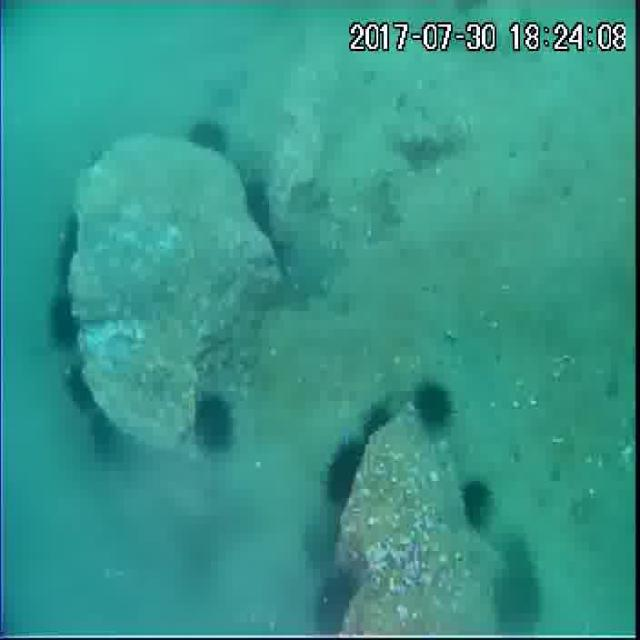echinus: (494, 558, 546, 640), (311, 566, 366, 636), (324, 438, 368, 502), (192, 393, 236, 457), (44, 289, 84, 353), (410, 379, 454, 437), (52, 209, 86, 278), (60, 360, 99, 418), (458, 476, 495, 536), (244, 175, 277, 238), (84, 407, 122, 461), (362, 402, 395, 449), (188, 120, 228, 157)
